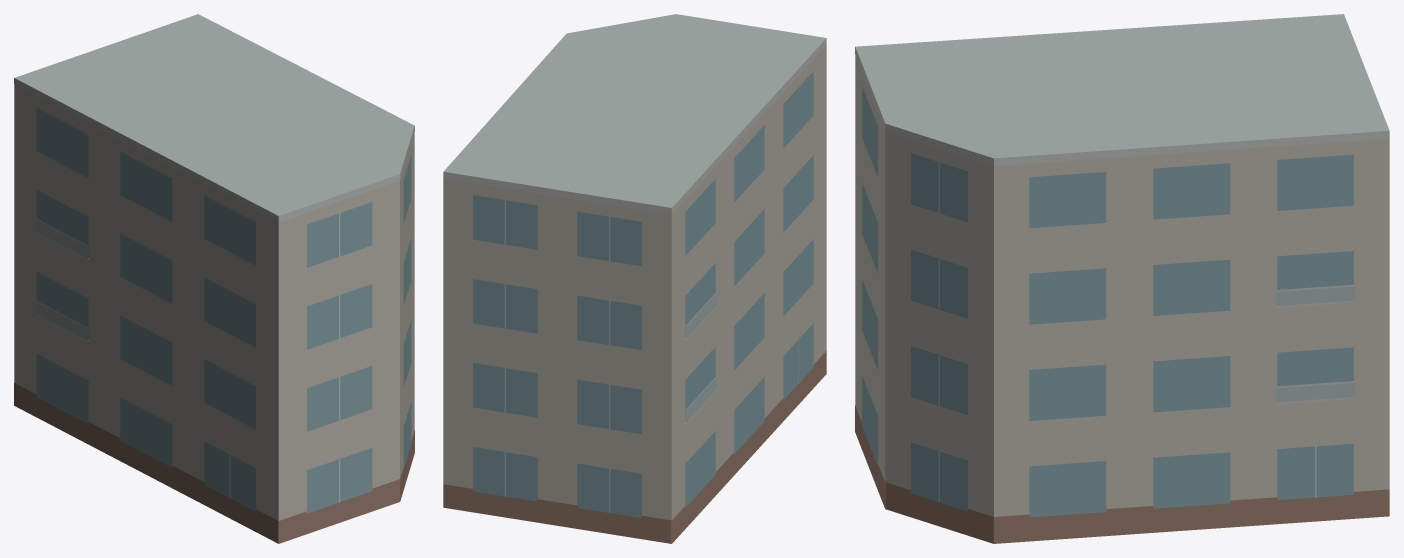
Rendered from survey-upis-32720365.glb.
The picture shows the model from 3 angles, left to right: view 1: azimuth 30°, elevation 25°; view 2: azimuth 150°, elevation 25°; view 3: azimuth 270°, elevation 25°; orthographic projection. The views are drawn at different scales.
Visible parts, largest first — view 1: survey-upis-32720365.tmp; view 2: survey-upis-32720365.tmp; view 3: survey-upis-32720365.tmp.
Part boxes in pixels (left/top/right/bottom): survey-upis-32720365.tmp: left=14, top=14, right=414, bottom=543; survey-upis-32720365.tmp: left=443, top=14, right=826, bottom=543; survey-upis-32720365.tmp: left=855, top=14, right=1389, bottom=543.
Size of the model in its own units: 9.81 by 12.2 by 15.34.
